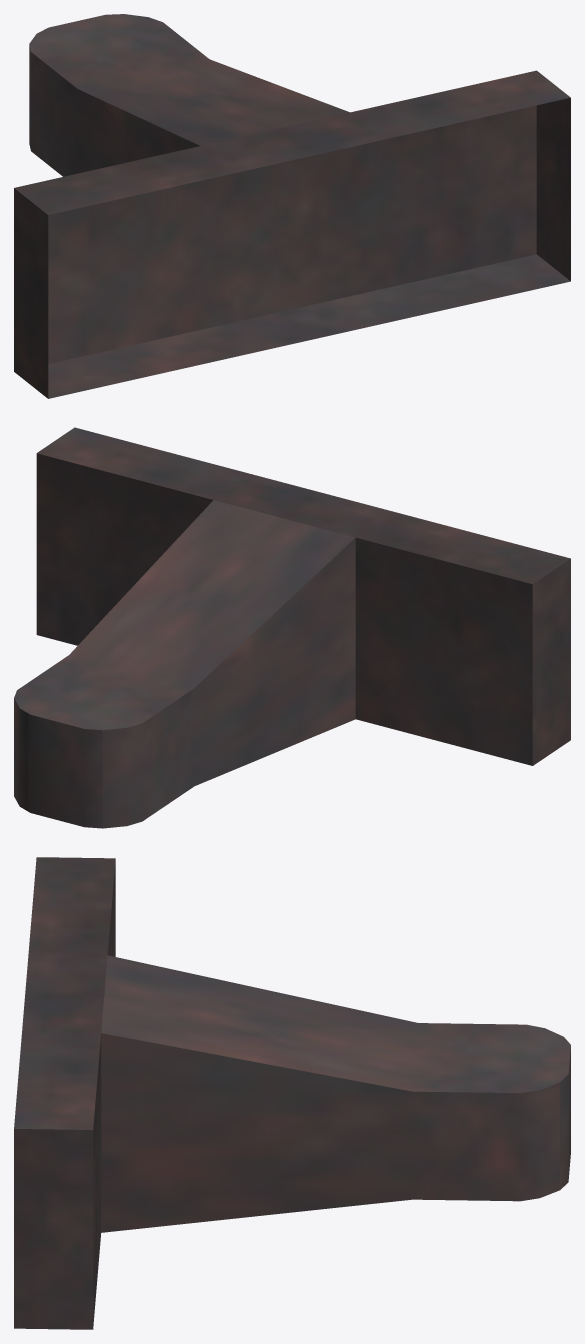
File: rod_loop.fbx
3 views of the same model, one above another, from view 1: azimuth 30°, elevation 25°; view 2: azimuth 150°, elevation 25°; view 3: azimuth 270°, elevation 25° (orthographic). The views are drawn at different scales.
Visible parts, largest first — view 1: rod_loop; view 2: rod_loop; view 3: rod_loop.
Part boxes in pixels (x1=…): rod_loop: x1=14, y1=14, x2=570, y2=398; rod_loop: x1=14, y1=427, x2=570, y2=828; rod_loop: x1=14, y1=857, x2=570, y2=1329.
Bounding box in the file's own units: 0.1472 × 0.0502 × 0.127.
